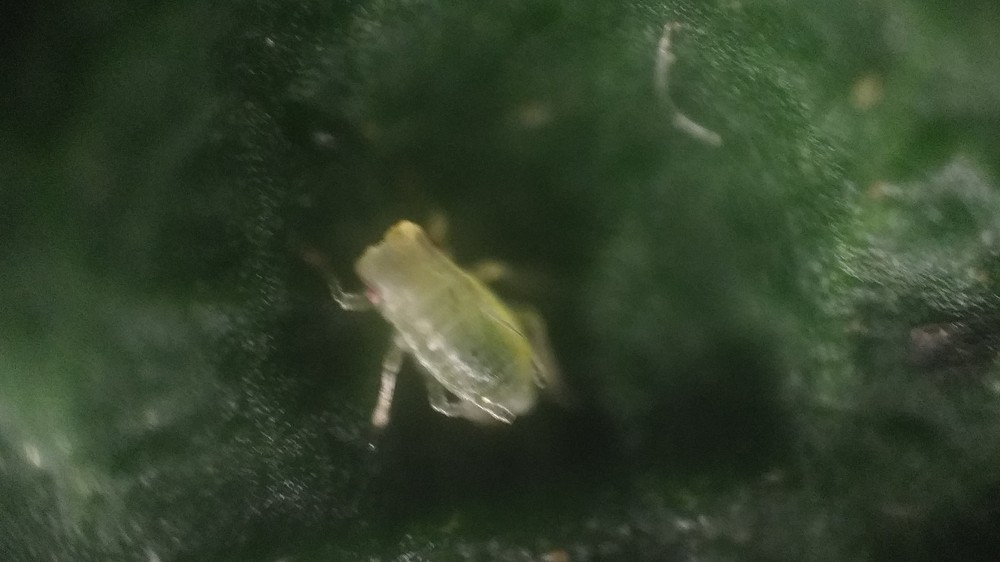Pulgon: (280, 181, 626, 478)
